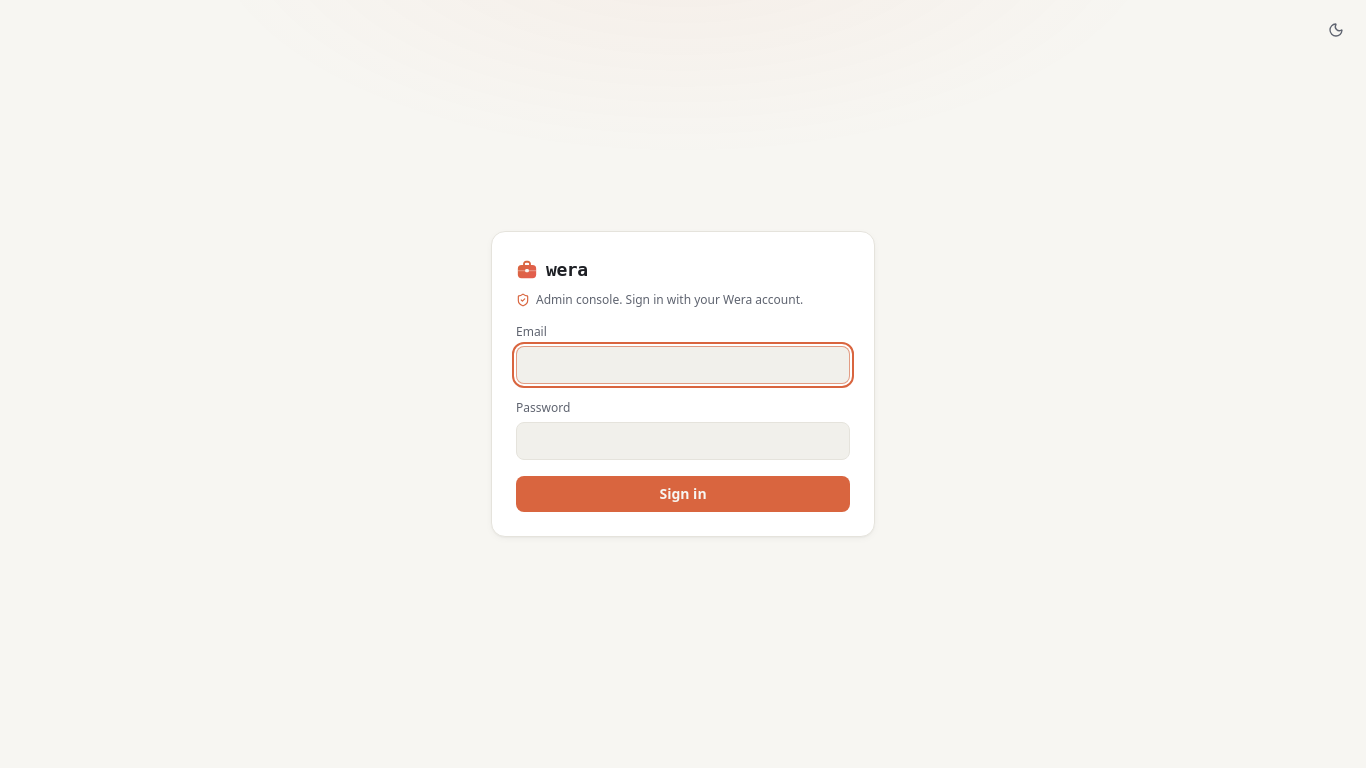
Test: Gate › signs an admin in and opens the overview
Type "jesse@example.com" into the field labelled "Email".
click(683, 365); type("jesse@example.com")  # box top-left (516, 346), bottom-right (850, 384)
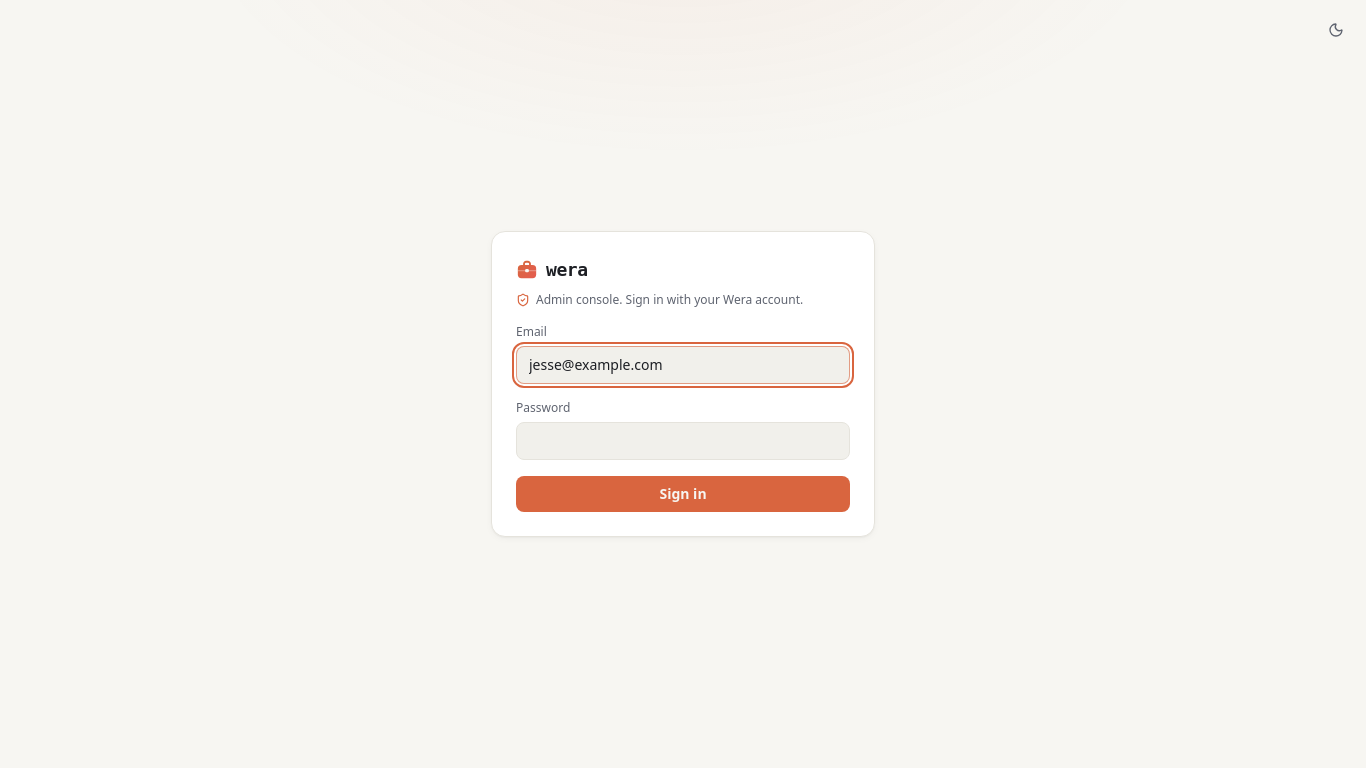
Type "correct horse" into the password field labelled "Password".
click(683, 441); type("correct horse")  # box top-left (516, 422), bottom-right (850, 460)
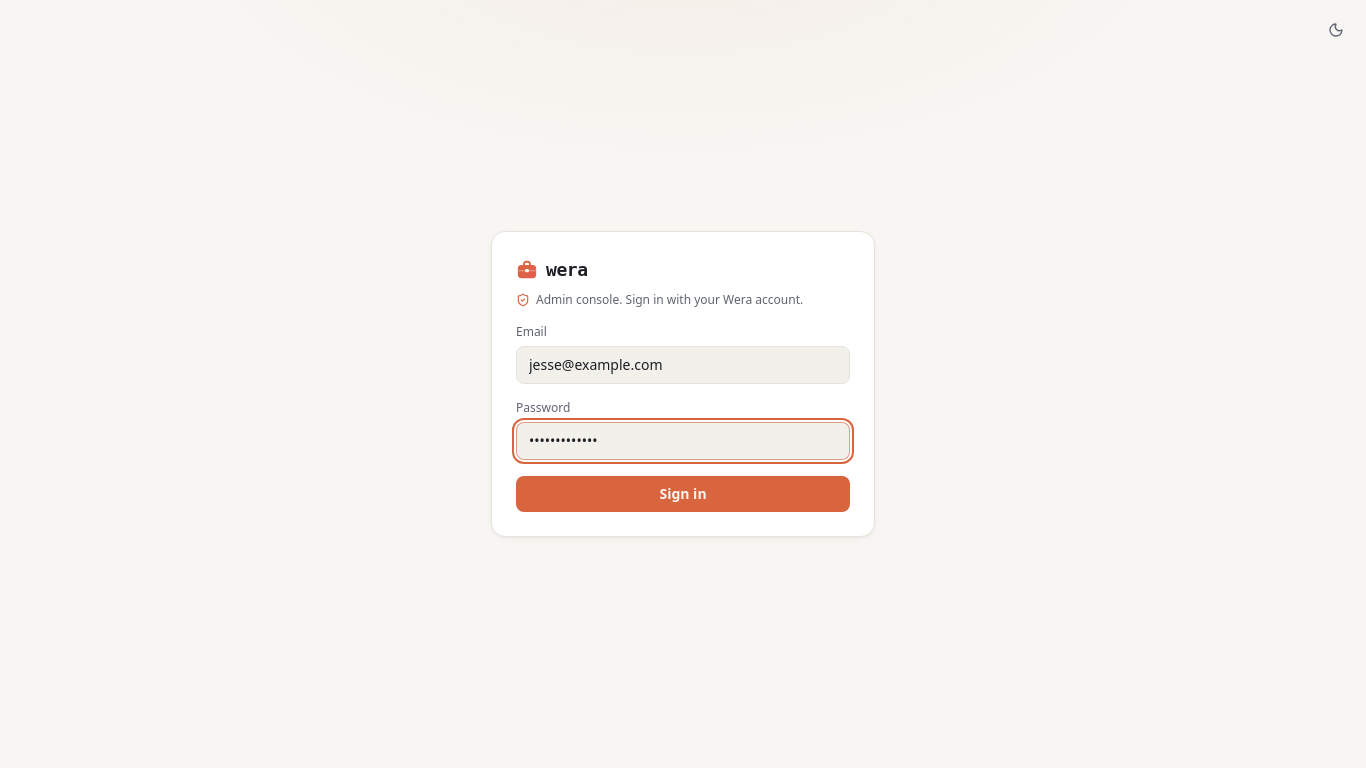
Click the button "Sign in".
click(683, 494)  # box top-left (516, 476), bottom-right (850, 512)
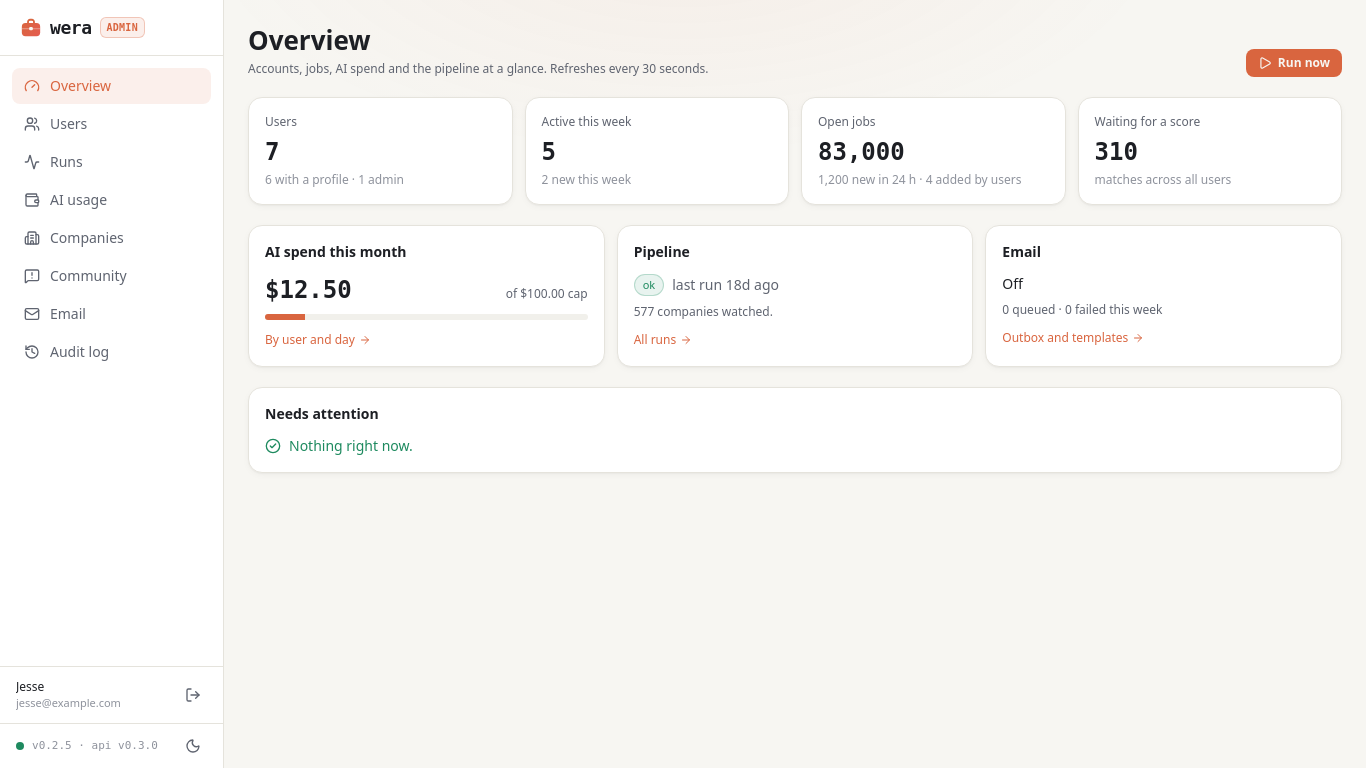
Expected: the text "Nothing right now." is shown, top-left (265, 436), bottom-right (413, 454)
